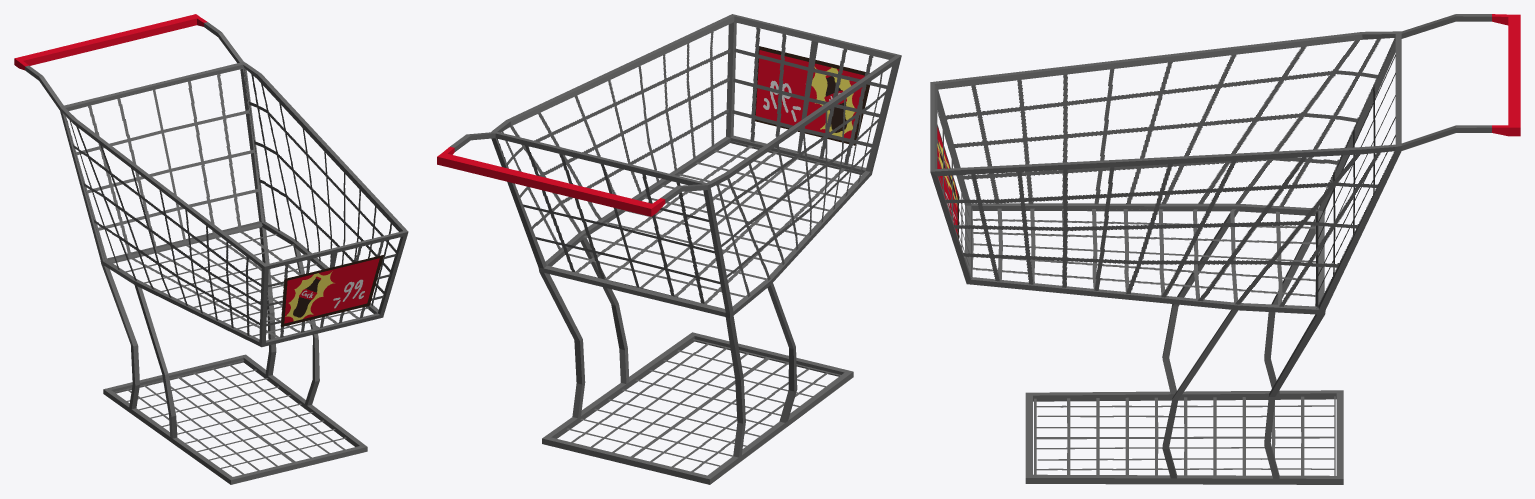
File: shopping cart.glb
3 renders of one model, left to right at view 1: azimuth 30°, elevation 25°; view 2: azimuth 150°, elevation 25°; view 3: azimuth 270°, elevation 25°, orthographic. The views are drawn at different scales.
Visible parts, largest first — view 1: mesh.001, mesh, mesh.002; view 2: mesh.001, mesh, mesh.002; view 3: mesh, mesh.001, mesh.002.
Part boxes in pixels (x1,y1,x2,y2): mesh.001: (14,14,408,484); mesh: (65,68,396,474); mesh.002: (281,255,383,326); mesh.001: (437,14,901,484); mesh: (497,27,889,471); mesh.002: (752,46,870,145); mesh: (937,38,1395,475); mesh.001: (930,14,1520,484); mesh.002: (937,126,958,238).
Bounding box in the file's own units: 0.5641 × 0.8284 × 1.2.
1 material, 1 textured.
